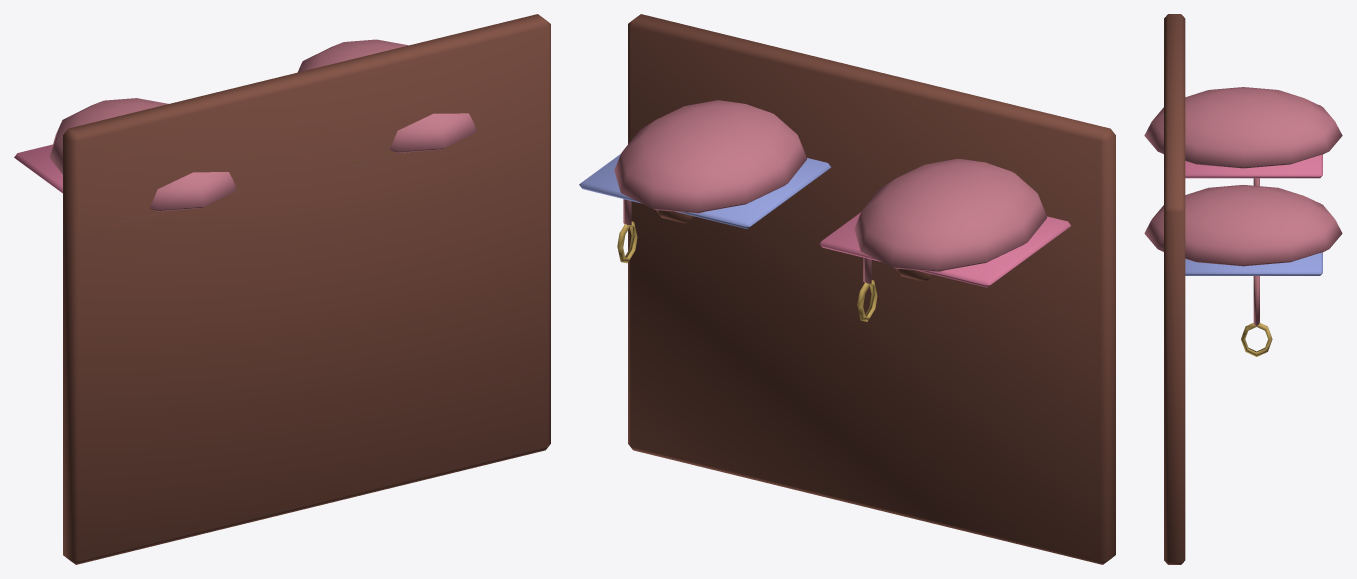
File: saddle_rack.glb
The picture shows the model from 3 angles, left to right: view 1: azimuth 30°, elevation 25°; view 2: azimuth 150°, elevation 25°; view 3: azimuth 270°, elevation 25°; orthographic projection. The views are drawn at different scales.
Parts seen in each view (by area): view 1: saddle_rack; view 2: saddle_rack; view 3: saddle_rack.
Part boxes in pixels (left/top/right/bottom): saddle_rack: left=14, top=14, right=550, bottom=564; saddle_rack: left=579, top=14, right=1115, bottom=564; saddle_rack: left=1144, top=14, right=1342, bottom=564.
Size of what is drawn, in the model's own units: 1.4 by 1.2 by 0.6.
